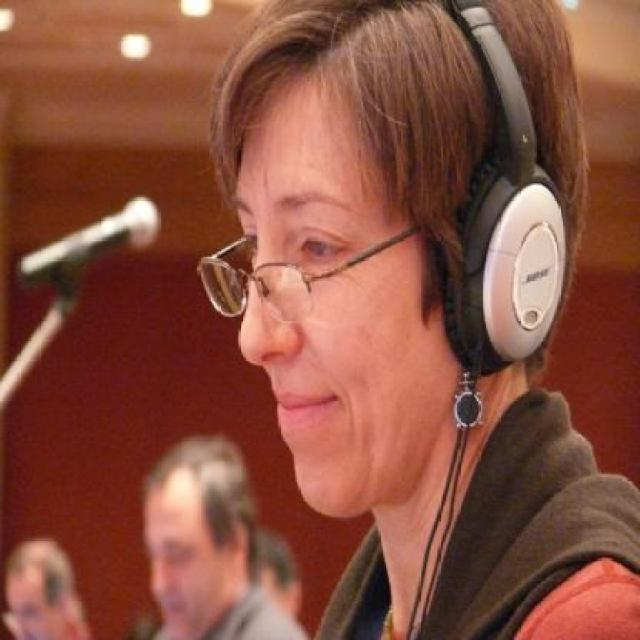earphone: (380, 0, 591, 388)
